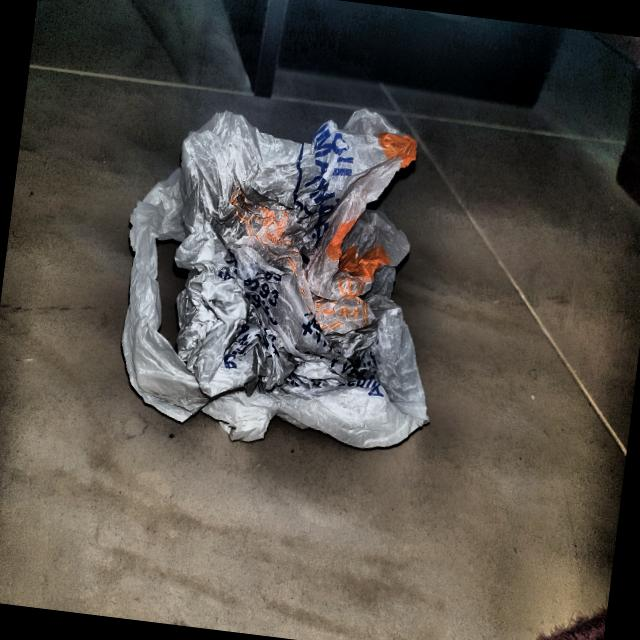plastic bag: (98, 64, 490, 482)
